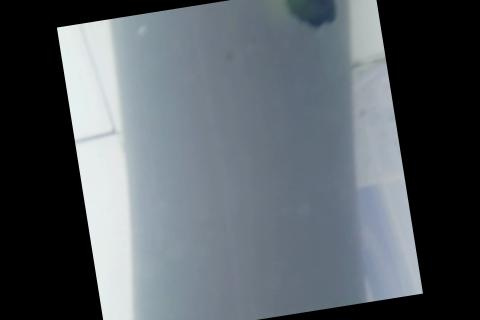kebocoran: (281, 0, 341, 32)
